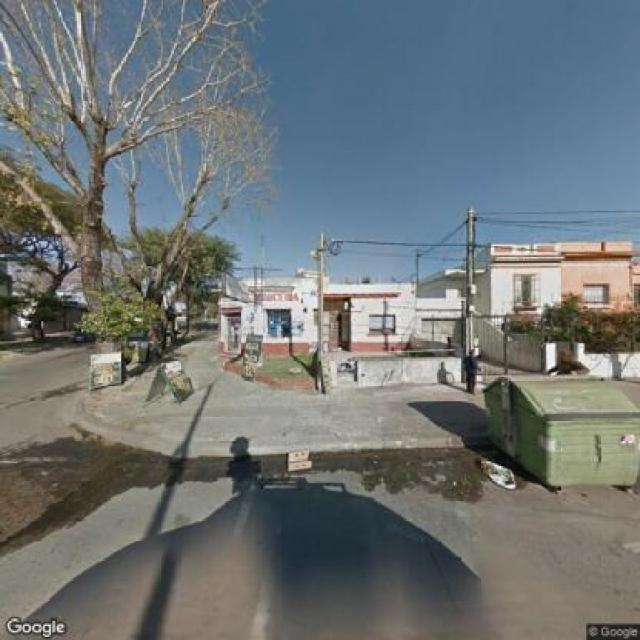garbage: (473, 451, 536, 495)
